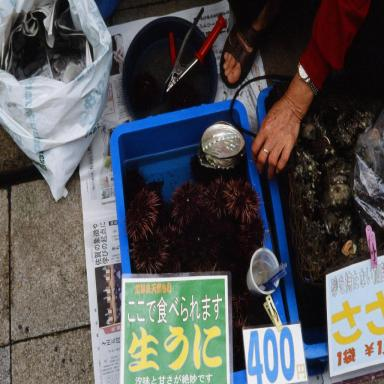plasticbag: (0, 0, 112, 203)
